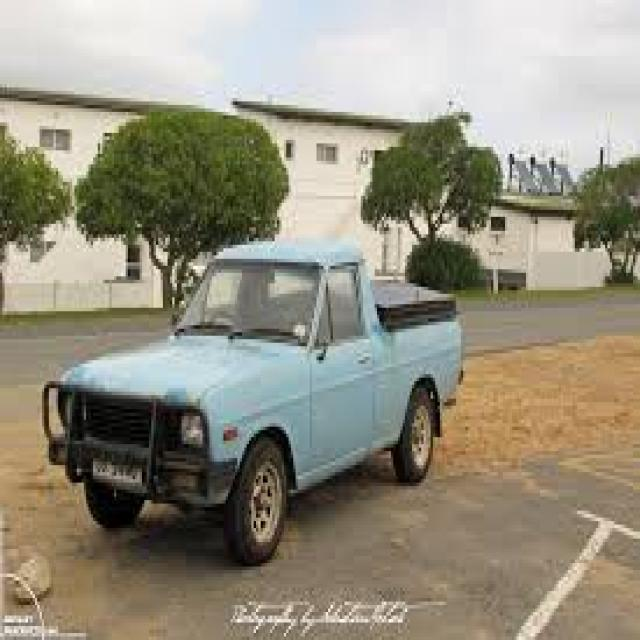Pickup Trucks: (44, 242, 463, 566)
